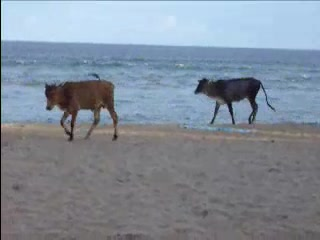cow: (44, 80, 120, 142)
